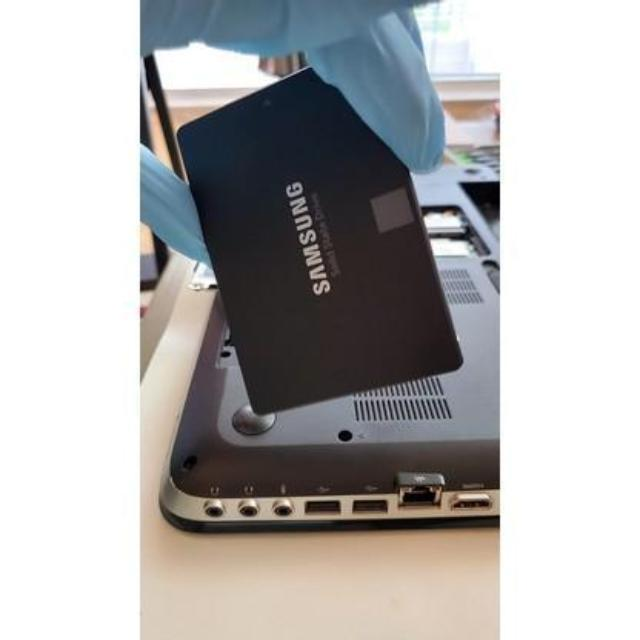DISK: (177, 52, 465, 414)
